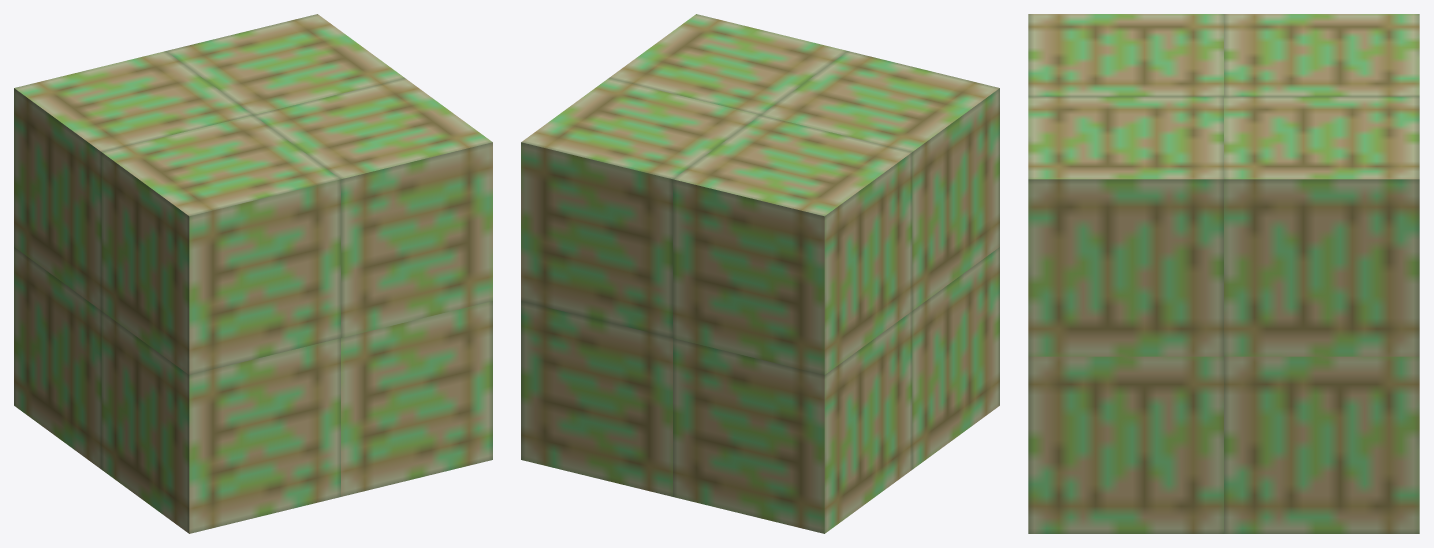
The model's file is block.obj.
The picture shows the model from 3 angles, left to right: view 1: azimuth 30°, elevation 25°; view 2: azimuth 150°, elevation 25°; view 3: azimuth 270°, elevation 25°; orthographic projection. The views are drawn at different scales.
Parts seen in each view (by area): view 1: Default; view 2: Default; view 3: Default.
Boxes of the visible parts, box(x1,y1,x2,y2) form: Default: box(14, 14, 492, 533); Default: box(521, 14, 999, 533); Default: box(1028, 14, 1419, 533).
Bounding box in the file's own units: 6 × 6 × 6.
Materials: 1 (1 with a texture image).
